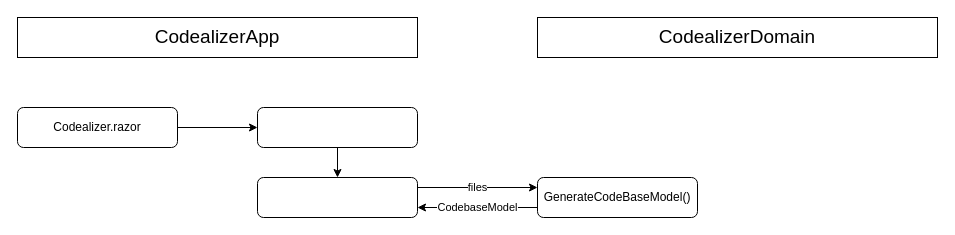
Some shapes in this 955 by 235 pixel diagram are drawn without their labels. Here are the shapes that lost their labels. From the top down, the centre of each, then its label:
At pixel 337 127: "ControlPanel.razor".
At pixel 337 197: "LoadCodebase()".
